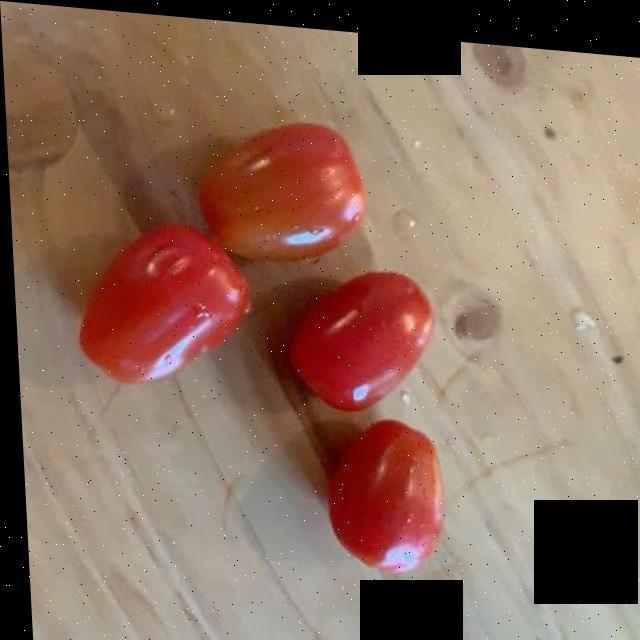tomato: (59, 115, 452, 577)
